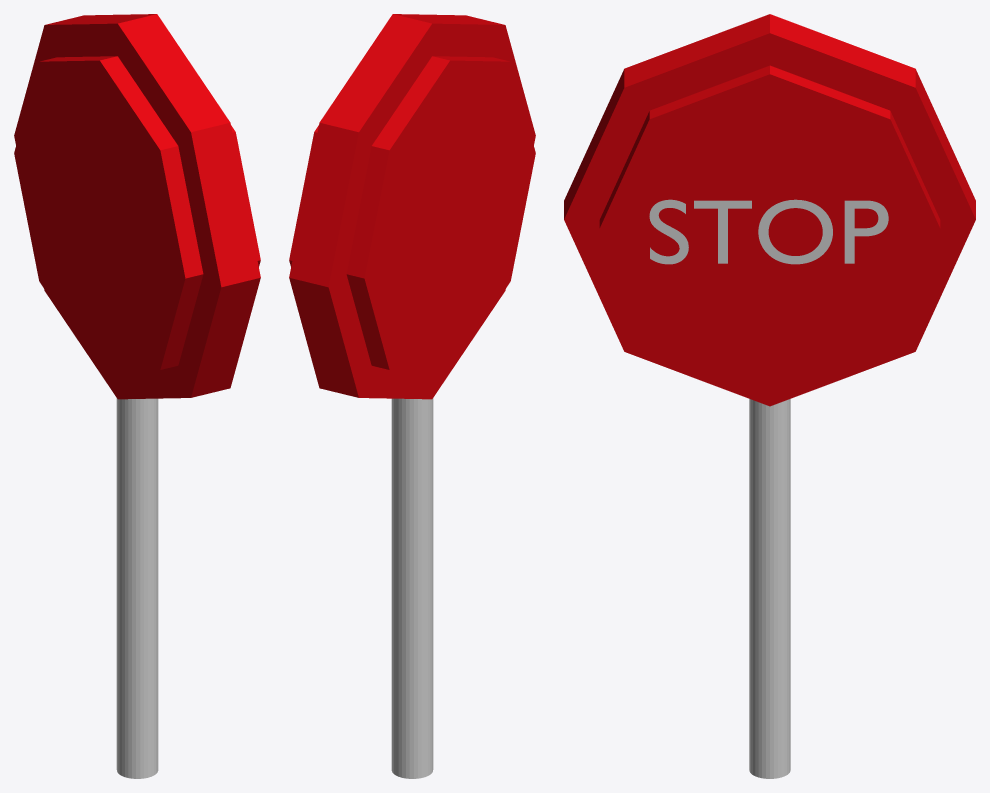
File: StopSign.fbx
3 views of the same model, side by side, from view 1: azimuth 30°, elevation 25°; view 2: azimuth 150°, elevation 25°; view 3: azimuth 270°, elevation 25° (orthographic).
Parts seen in each view (by area): view 1: Cylinder; view 2: Cylinder; view 3: Cylinder, Text.
Boxes of the visible parts, x1,y1,x2,y2 form: Cylinder: (14,14,260,778); Cylinder: (289,14,535,778); Cylinder: (564,14,975,778); Text: (649,199,888,264).
Bounding box in the file's own units: 42.73 × 400 × 200.
